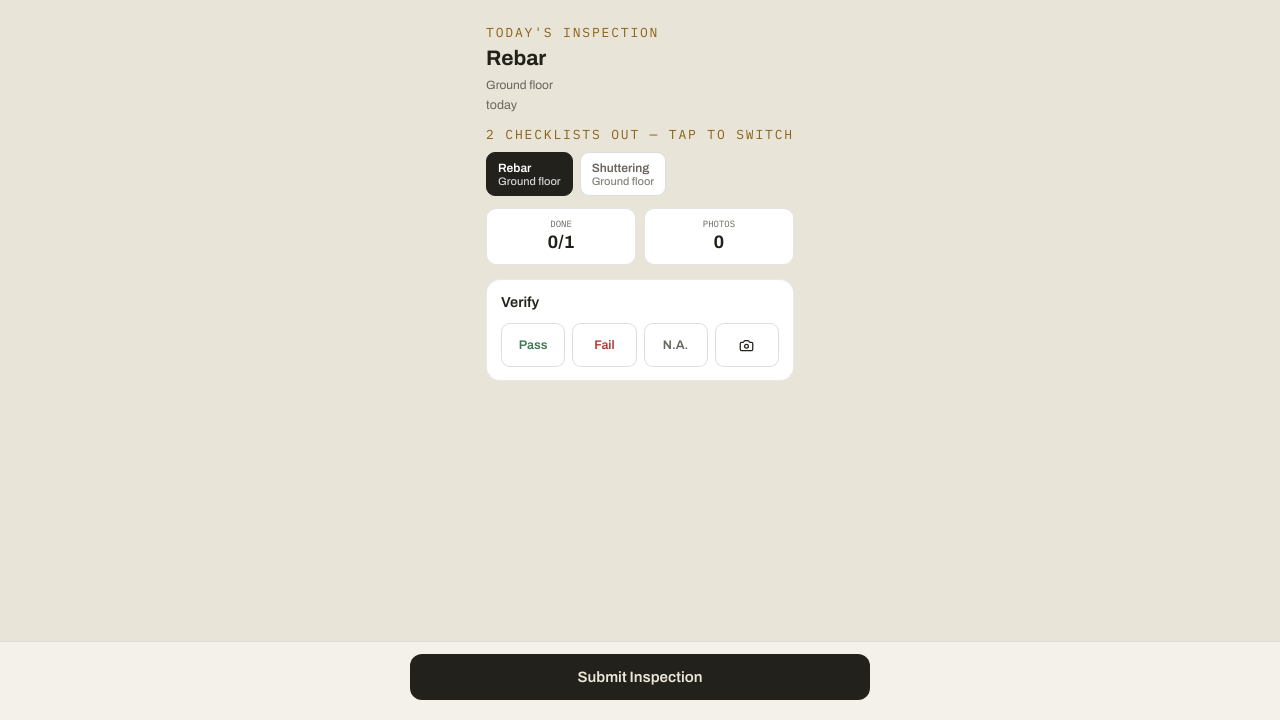
Test: the engineer can open every checklist that is out on site › tapping the other checklist moves the edit slot to it
The width and height of the screenshot is (1280, 720).
Click the button with test id "checklist-tab-INSP-2" at (623, 174), box [580,152,666,196]
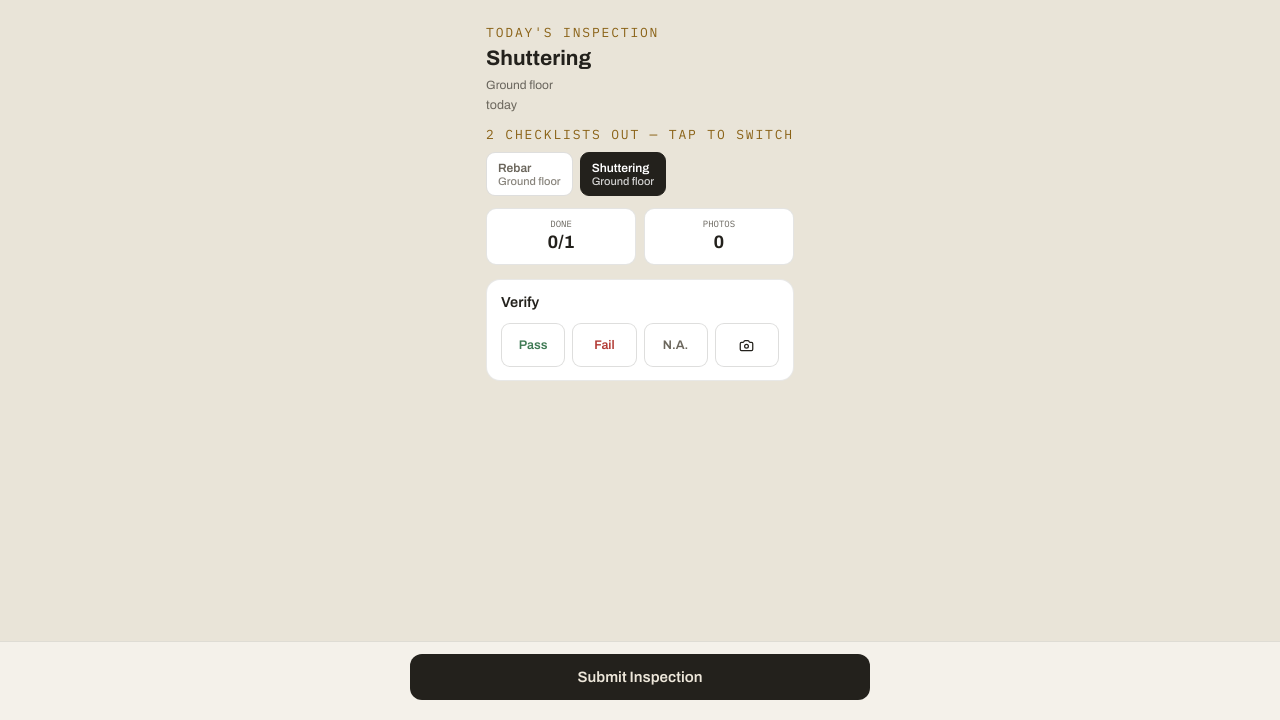
Result: the text with test id "checklist-title" reads "Shuttering" at [486,47,591,69]
